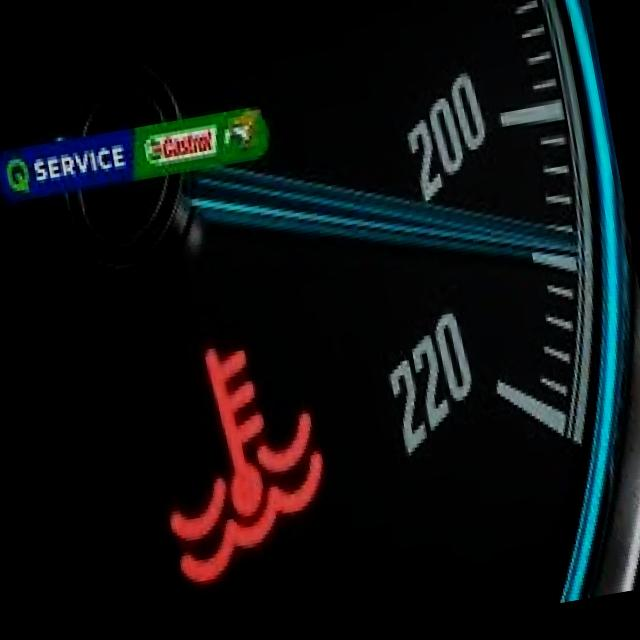kontrolka: (120, 311, 356, 595)
